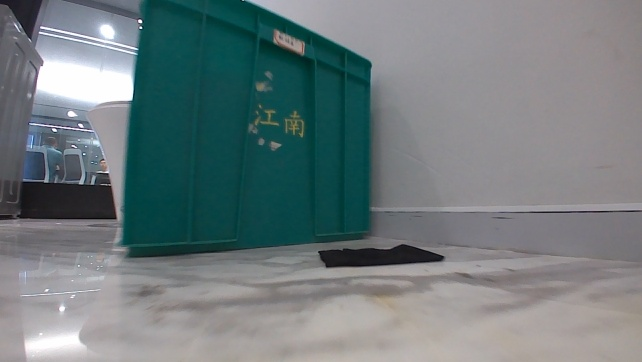socks: (312, 239, 445, 270)
toilet: (84, 96, 131, 224)
